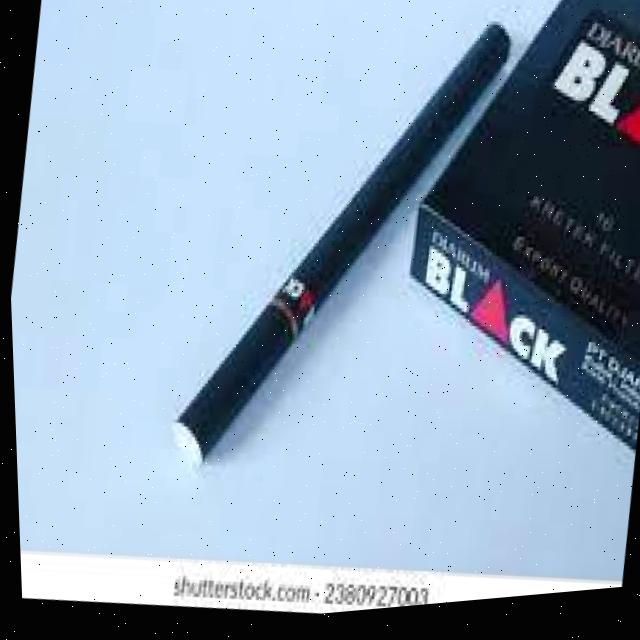cigarette: (177, 25, 511, 468)
